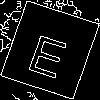E: (25, 25, 73, 80)
